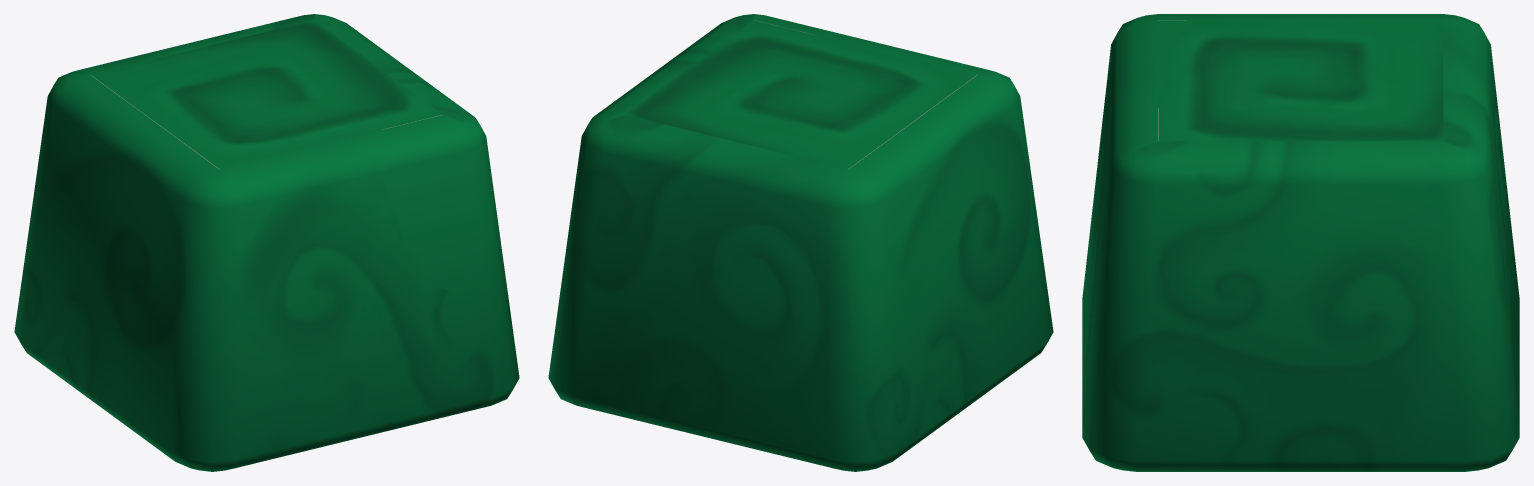
File: StruikVierkant_Klein.FBX
3 renders of one model, left to right at view 1: azimuth 30°, elevation 25°; view 2: azimuth 150°, elevation 25°; view 3: azimuth 270°, elevation 25°, orthographic. The views are drawn at different scales.
Visible parts, largest first — view 1: ChamferBox002; view 2: ChamferBox002; view 3: ChamferBox002.
Part boxes in pixels (<box>): ChamferBox002: <box>14,14,519,471</box>; ChamferBox002: <box>548,14,1053,471</box>; ChamferBox002: <box>1082,14,1519,471</box>.
Bounding box in the file's own units: 40 × 31.65 × 40.
Materials: 1 (1 with a texture image).
